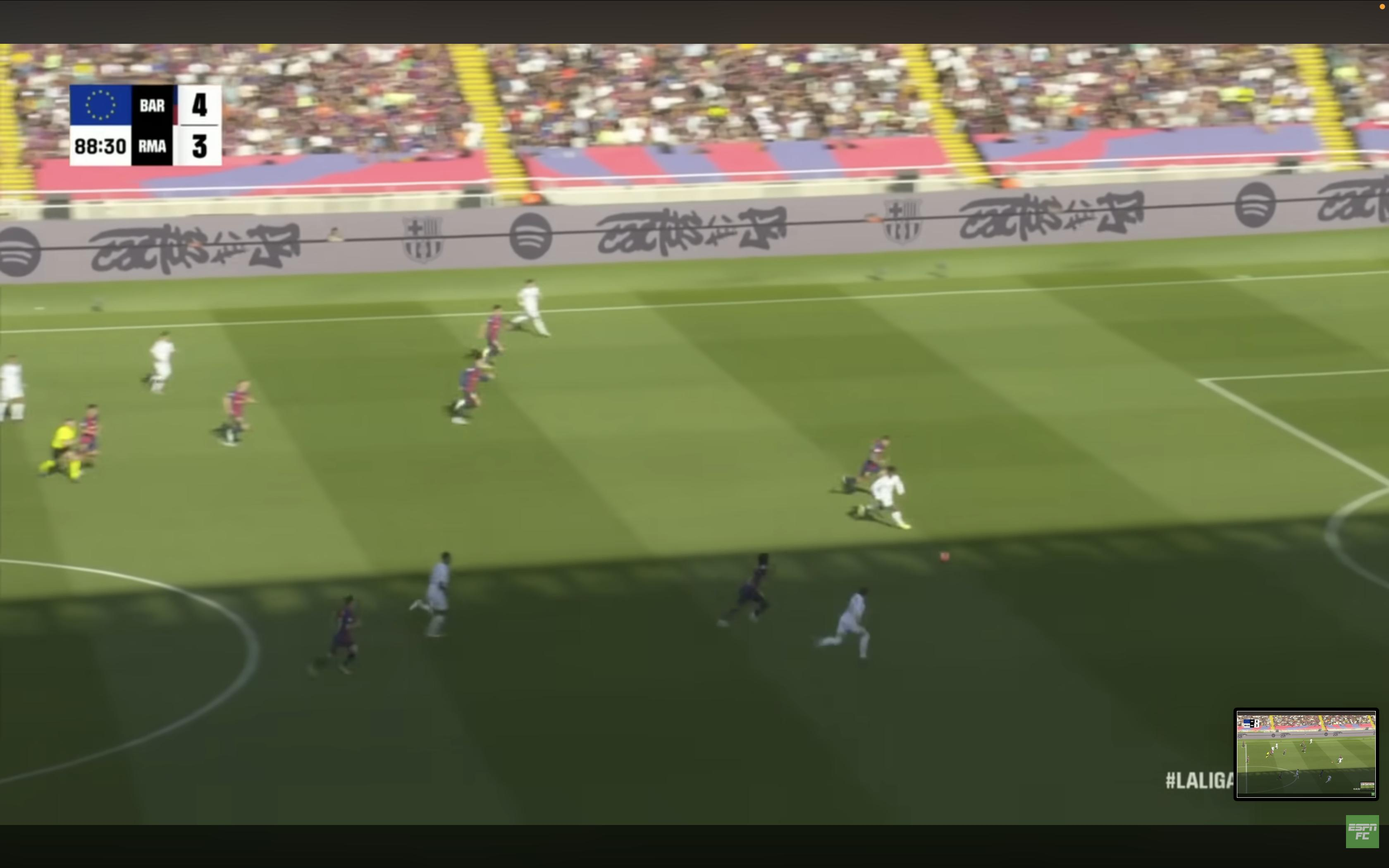ball: (941, 553, 947, 559)
player: (309, 596, 360, 676), (717, 553, 769, 627), (816, 587, 869, 659), (853, 466, 910, 529), (410, 552, 451, 638), (449, 351, 495, 423), (843, 436, 890, 494), (215, 380, 256, 446), (511, 280, 549, 337), (142, 331, 175, 393), (480, 305, 506, 366), (0, 355, 23, 422), (79, 405, 100, 468)
referee: (39, 418, 81, 482)
